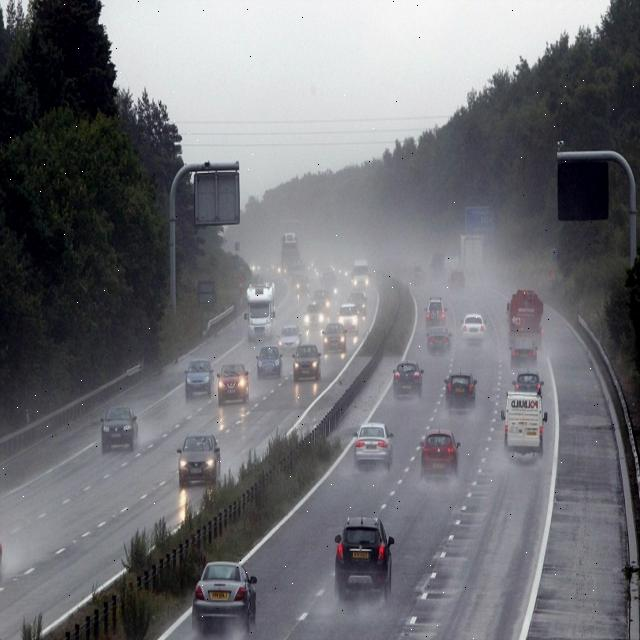Car: (333, 513, 395, 603), (191, 559, 258, 639), (502, 378, 547, 457), (176, 430, 220, 486), (420, 427, 460, 479), (353, 421, 395, 470), (100, 405, 139, 453), (443, 369, 478, 409), (217, 362, 250, 404), (184, 358, 214, 399), (392, 360, 424, 398), (292, 342, 322, 382), (255, 344, 283, 378), (460, 312, 487, 343), (321, 321, 347, 353), (425, 324, 452, 354), (424, 296, 447, 328), (338, 301, 360, 334), (512, 370, 542, 394), (278, 323, 302, 352), (351, 258, 370, 289), (510, 348, 540, 367), (312, 289, 330, 313), (448, 268, 466, 291), (397, 261, 415, 284), (291, 268, 308, 292), (349, 291, 367, 313), (431, 251, 446, 275), (411, 264, 424, 286), (322, 264, 336, 282), (315, 262, 328, 279), (365, 261, 378, 278), (250, 264, 261, 277), (341, 265, 351, 278), (333, 285, 338, 294)
Truck: (508, 290, 543, 345), (246, 278, 276, 341), (280, 232, 302, 276), (444, 255, 459, 279)
